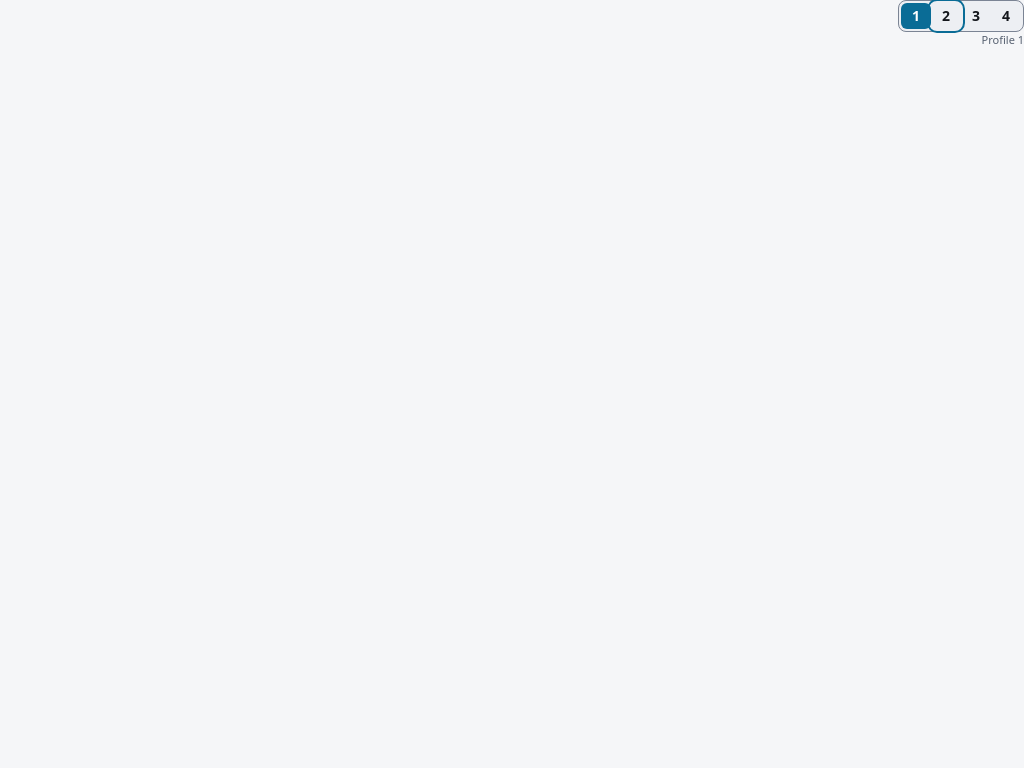
Test case: focus after a flow closes › returns to the profile button that opened the switch
The image size is (1024, 768).
Click the radio button labelled "2".
click(946, 16)  # box [931,3,961,29]
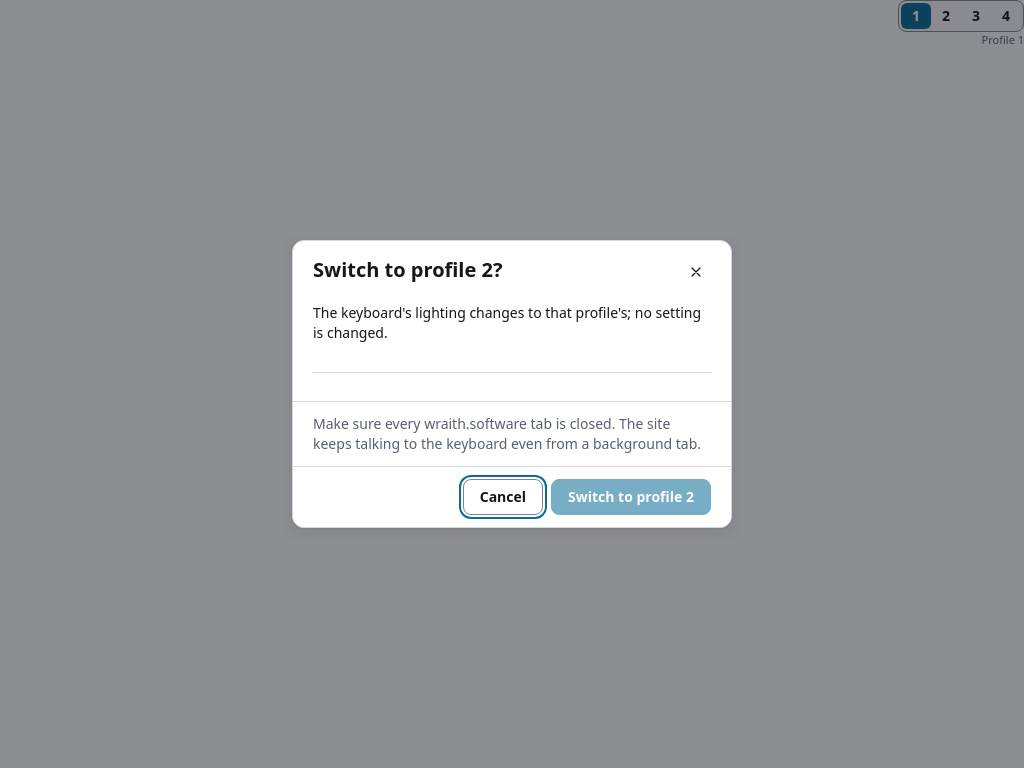
Click the button "Cancel".
click(503, 497)  # box [463,479,543,515]
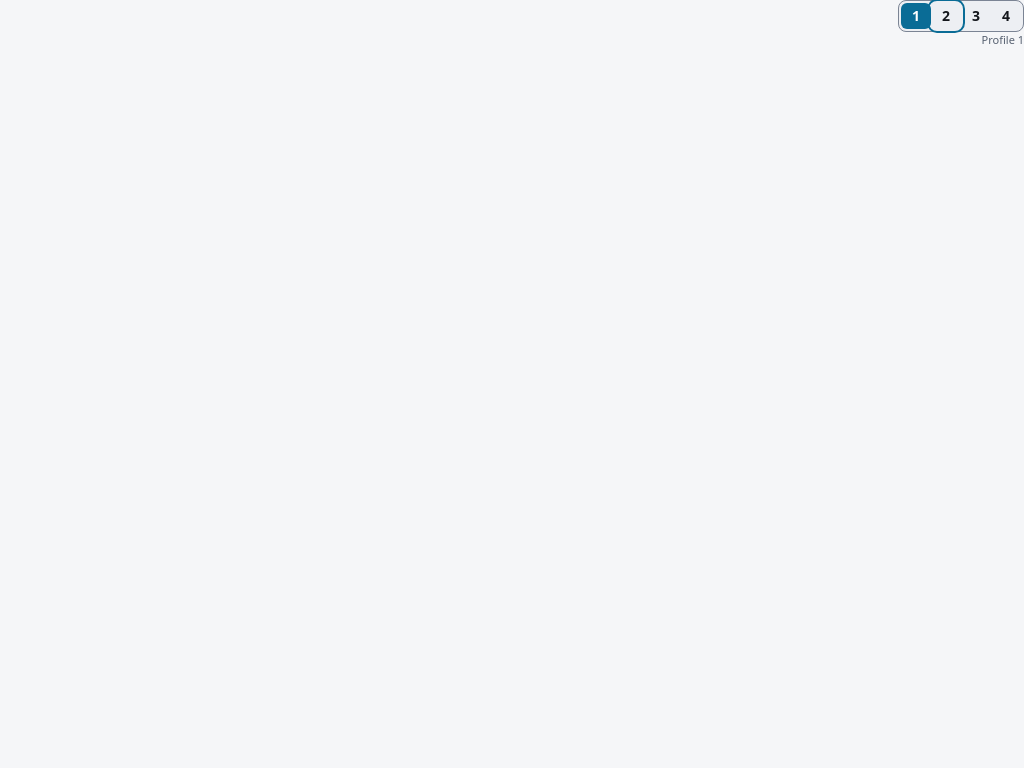
expect the radio button labelled "2" is enabled: met, box [931,3,961,29]
expect the dialog is gone: met
